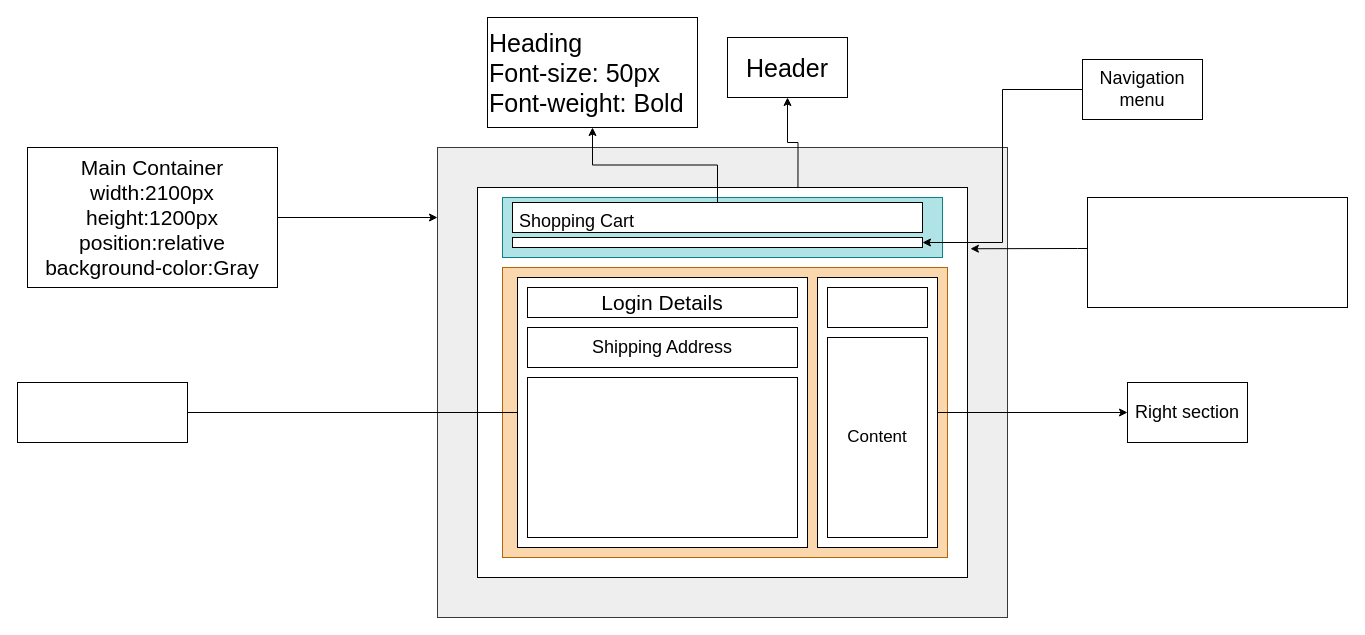
Some shapes in this 1365 by 635 pixel diagram are drawn without their labels. The shapes that lost their labels are listed below. From the top down, each one's centre as x and y in pixels, then its label:
At [1217,252]: "Secondary Container Position: absolute height:1050px top:70px".
At [877,307]: "Heading".
At [102,412]: "Left Section".
At [662,457]: "Payment Method".
